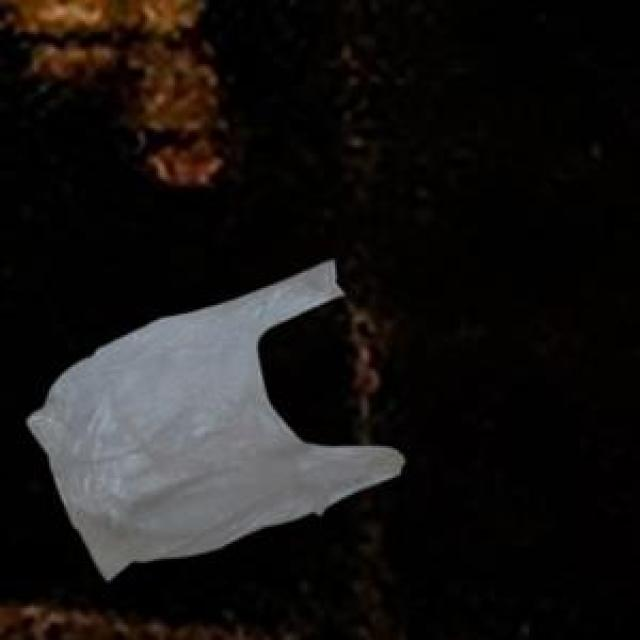plastic: (26, 249, 423, 584)
